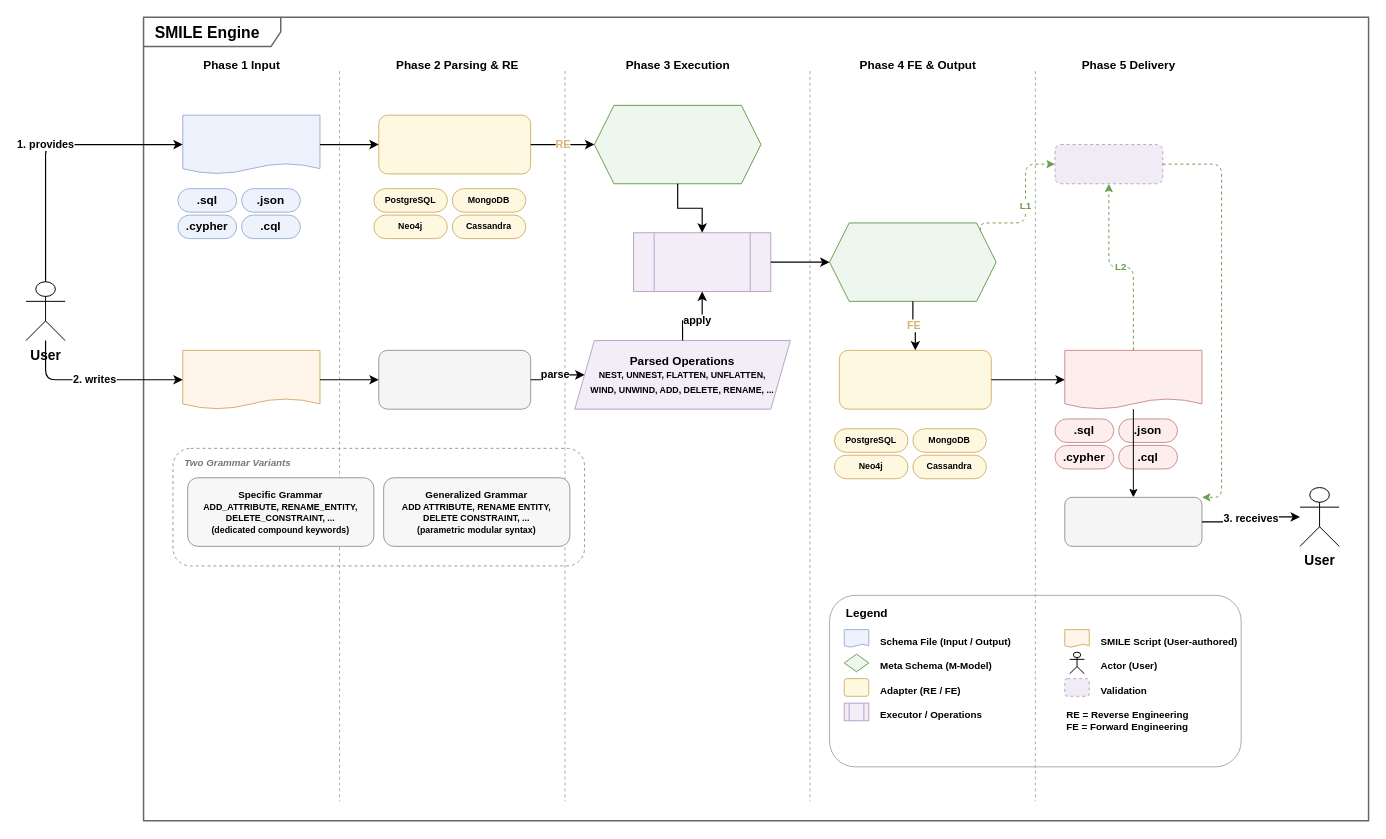
The diagram is 1386 pixels wide and 839 high, and some of its shapes have lost their labels. The centre of each missing label's shape, as x and y in pixels:
ANTLR4 Parser Specific / Generalized: (454,379)
Meta Schema V1 Unified M-Model: (677,144)
Meta Schema V2 Unified M-Model: (912,261)
Operation Executor (SchemaTransformer): (702,262)
SMILE Script .smel / .smel_gen: (251,379)
Source Adapter (Reverse Engineering): (454,144)
Source Schema: (251,144)
Target Adapter (Forward Engineering): (914,379)
Target Schema: (1133,379)
Validation 2-Layer Check: (1108,164)
Web UI Visualization: (1133,521)
